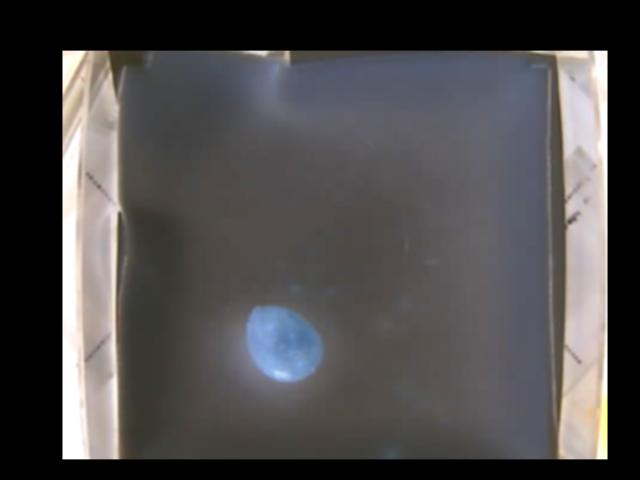Potato: (248, 306, 323, 381)
